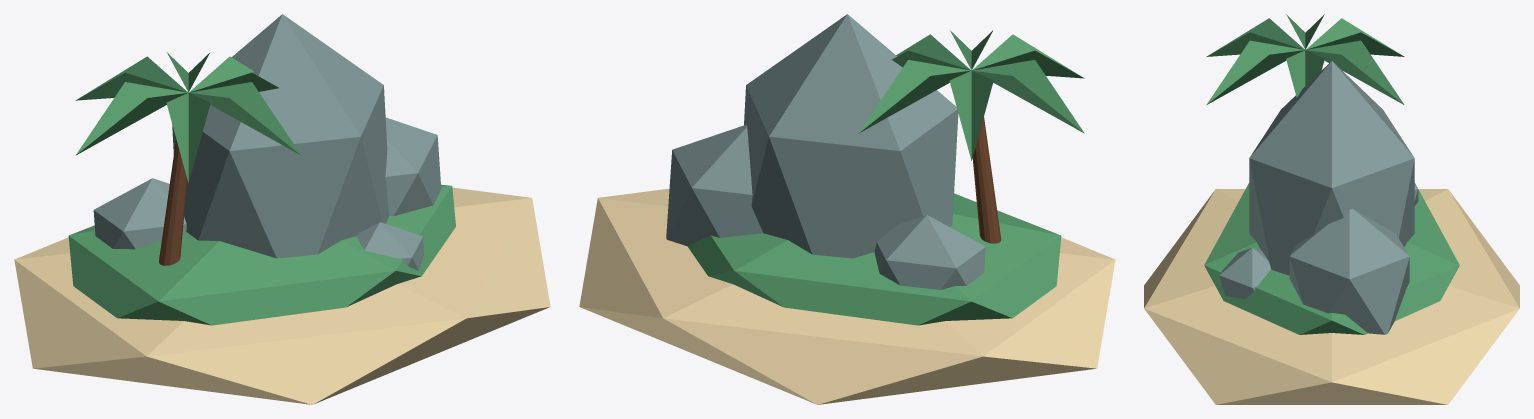
Rendered from island-crag.glb.
The picture shows the model from 3 angles, left to right: view 1: azimuth 30°, elevation 25°; view 2: azimuth 150°, elevation 25°; view 3: azimuth 270°, elevation 25°; orthographic projection. The views are drawn at different scales.
Parts seen in each view (by area): view 1: Sand shelf.001, Tall crag, Grassy rise.001, Island rock.003, Island rock.004, Palm frond.017, Palm frond.015, Palm frond.016, Palm trunk.002, Island rock.005, Palm frond.014, Palm frond.012 (+1 smaller); view 2: Sand shelf.001, Tall crag, Grassy rise.001, Island rock.003, Island rock.004, Palm frond.015, Palm frond.013, Palm frond.014, Palm trunk.002, Palm frond.016, Palm frond.012, Palm frond.017; view 3: Sand shelf.001, Tall crag, Island rock.003, Grassy rise.001, Palm frond.017, Palm frond.013, Island rock.005, Palm frond.014, Palm frond.016, Palm frond.012, Palm frond.015.
Part boxes in pixels (x1,y1,x2,y2): Sand shelf.001: [14, 187, 550, 404]; Tall crag: [172, 14, 389, 258]; Grassy rise.001: [68, 184, 455, 325]; Island rock.003: [385, 117, 441, 216]; Island rock.004: [93, 178, 186, 249]; Palm frond.017: [189, 82, 301, 155]; Palm frond.015: [75, 82, 187, 155]; Palm frond.016: [166, 93, 210, 182]; Palm trunk.002: [159, 139, 187, 265]; Island rock.005: [356, 222, 424, 270]; Palm frond.014: [75, 56, 187, 100]; Palm frond.012: [189, 56, 278, 92]; Sand shelf.001: [579, 188, 1115, 404]; Tall crag: [744, 14, 958, 258]; Grassy rise.001: [687, 193, 1061, 325]; Island rock.003: [666, 124, 762, 246]; Island rock.004: [874, 215, 985, 289]; Palm frond.015: [972, 60, 1084, 133]; Palm frond.013: [858, 60, 970, 133]; Palm frond.014: [949, 70, 993, 160]; Palm trunk.002: [972, 117, 1001, 243]; Palm frond.016: [972, 34, 1084, 78]; Palm frond.012: [892, 34, 971, 70]; Palm frond.017: [950, 30, 992, 70]; Sand shelf.001: [1144, 189, 1519, 404]; Tall crag: [1249, 61, 1414, 275]; Island rock.003: [1289, 208, 1409, 334]; Grassy rise.001: [1204, 183, 1459, 334]; Palm frond.017: [1206, 40, 1304, 104]; Palm frond.013: [1306, 40, 1404, 104]; Island rock.005: [1219, 247, 1270, 298]; Palm frond.014: [1306, 18, 1404, 56]; Palm frond.016: [1206, 18, 1304, 56]; Palm frond.012: [1286, 50, 1324, 97]; Palm frond.015: [1286, 14, 1324, 49].
Size of the model in its own units: 5.72 by 3.8 by 4.25.
